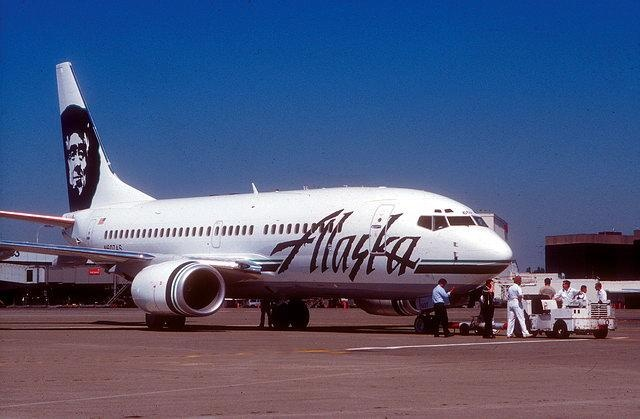airplane: (2, 62, 509, 305)
person: (427, 279, 460, 337), (507, 275, 535, 339), (474, 280, 503, 341), (557, 277, 576, 305), (591, 279, 610, 303), (540, 275, 557, 301), (578, 284, 590, 305)
